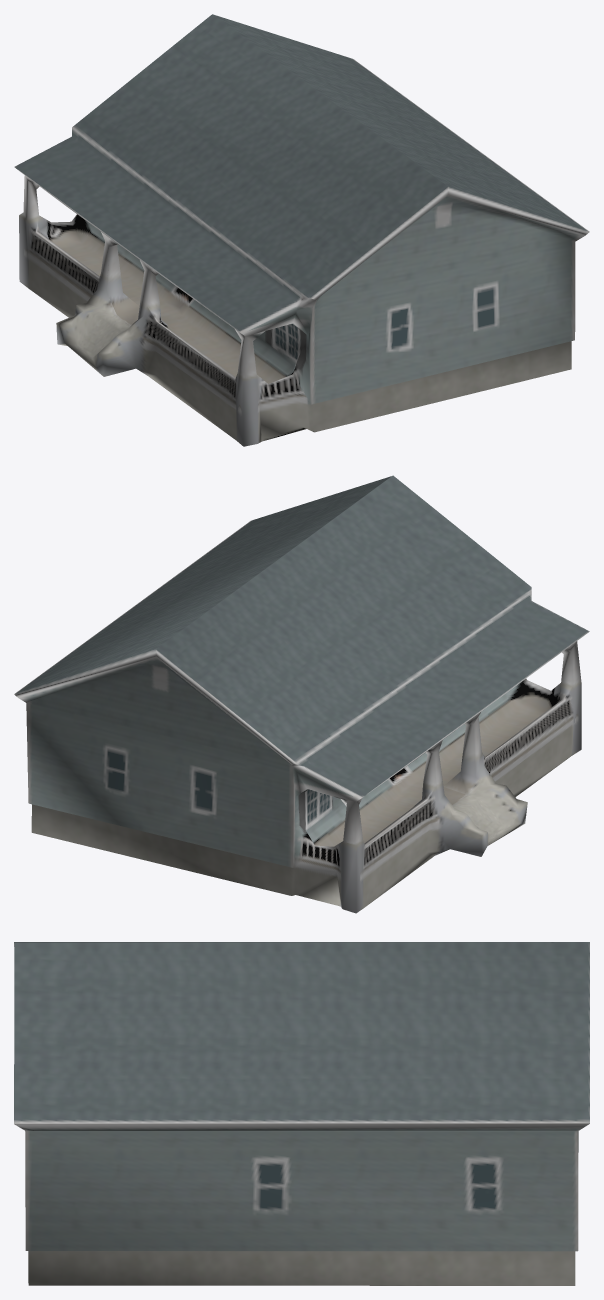
File: SM_Proxy_House_07.fbx
3 renders of one model, top to bottom at view 1: azimuth 30°, elevation 25°; view 2: azimuth 150°, elevation 25°; view 3: azimuth 270°, elevation 25°, orthographic. The views are drawn at different scales.
Visible parts, largest first — view 1: SM_Proxy_House_07; view 2: SM_Proxy_House_07; view 3: SM_Proxy_House_07.
Boxes of the visible parts, x1,y1,x2,y2 form: SM_Proxy_House_07: (14,14,589,446); SM_Proxy_House_07: (14,475,589,913); SM_Proxy_House_07: (14,942,589,1285).
Size of the model in its own units: 1241 by 1329 by 695.
Materials: 1 (1 with a texture image).
